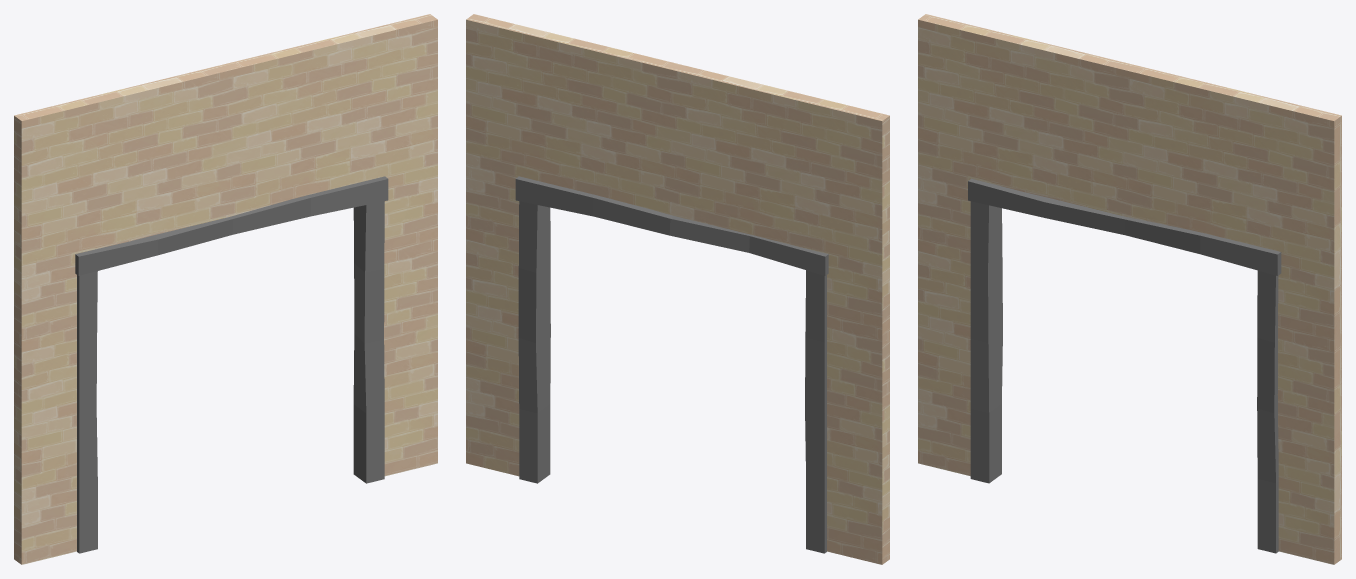
File: SM_wall_door_01.fbx
3 views of the same model, side by side, from view 1: azimuth 30°, elevation 25°; view 2: azimuth 150°, elevation 25°; view 3: azimuth 330°, elevation 25° (orthographic).
Parts seen in each view (by area): view 1: Object33028; view 2: Object33028; view 3: Object33028.
Part boxes in pixels (x1,y1,x2,y2): Object33028: [14, 14, 437, 564]; Object33028: [466, 14, 889, 564]; Object33028: [918, 14, 1341, 564].
Size of the model in its own units: 167 by 171 by 12.28.
